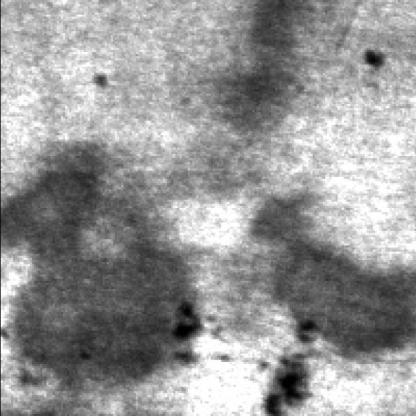inclusion: (262, 322, 320, 410), (170, 297, 224, 362)
patches: (4, 151, 192, 380), (262, 193, 416, 352), (231, 0, 306, 127)
